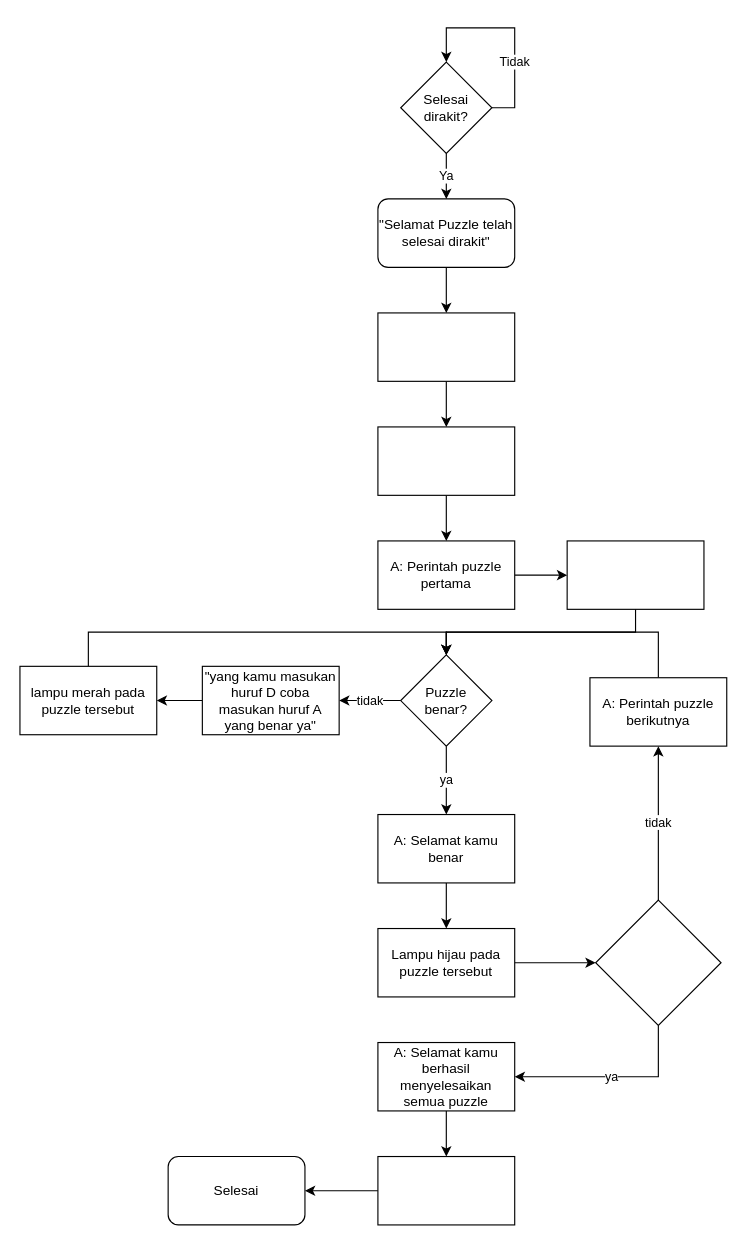
Some shapes in this 747 by 1245 pixel diagram are drawn without their labels. The centre of each missing label's shape, as x and y in pixels:
"Memulai permainan": (x=446, y=346)
Cek level-> ambil library level: (x=446, y=460)
Lampu warna warni semua puzzle: (x=446, y=1190)
Nyalain biru pada puzzle tersebut: (x=635, y=574)
semua puzzle selesai?: (x=658, y=962)
